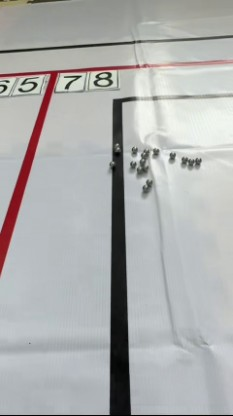ironball: (193, 154, 204, 167), (175, 153, 188, 164), (163, 150, 177, 160), (140, 183, 152, 194), (105, 158, 118, 168), (145, 174, 155, 186), (139, 161, 152, 170), (184, 156, 194, 167), (111, 138, 123, 146), (136, 166, 144, 178), (151, 146, 160, 156), (128, 159, 137, 169), (111, 146, 122, 154), (142, 146, 152, 154), (137, 151, 147, 159), (129, 144, 139, 152), (137, 155, 145, 163)
